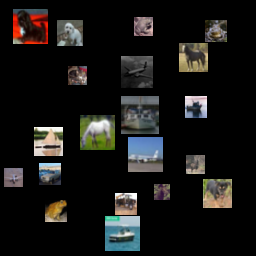airplane: (128, 137, 163, 172), (121, 56, 153, 88), (4, 168, 23, 187)
automobile: (39, 163, 61, 185)
cat: (68, 66, 87, 85)
deer: (186, 155, 205, 174)
dog: (13, 9, 48, 44), (203, 179, 232, 208), (57, 20, 83, 46)
frog: (45, 200, 67, 222), (205, 20, 227, 42), (134, 17, 153, 36)
ship: (121, 96, 159, 134), (105, 216, 140, 251), (34, 127, 63, 156), (185, 96, 207, 118)
